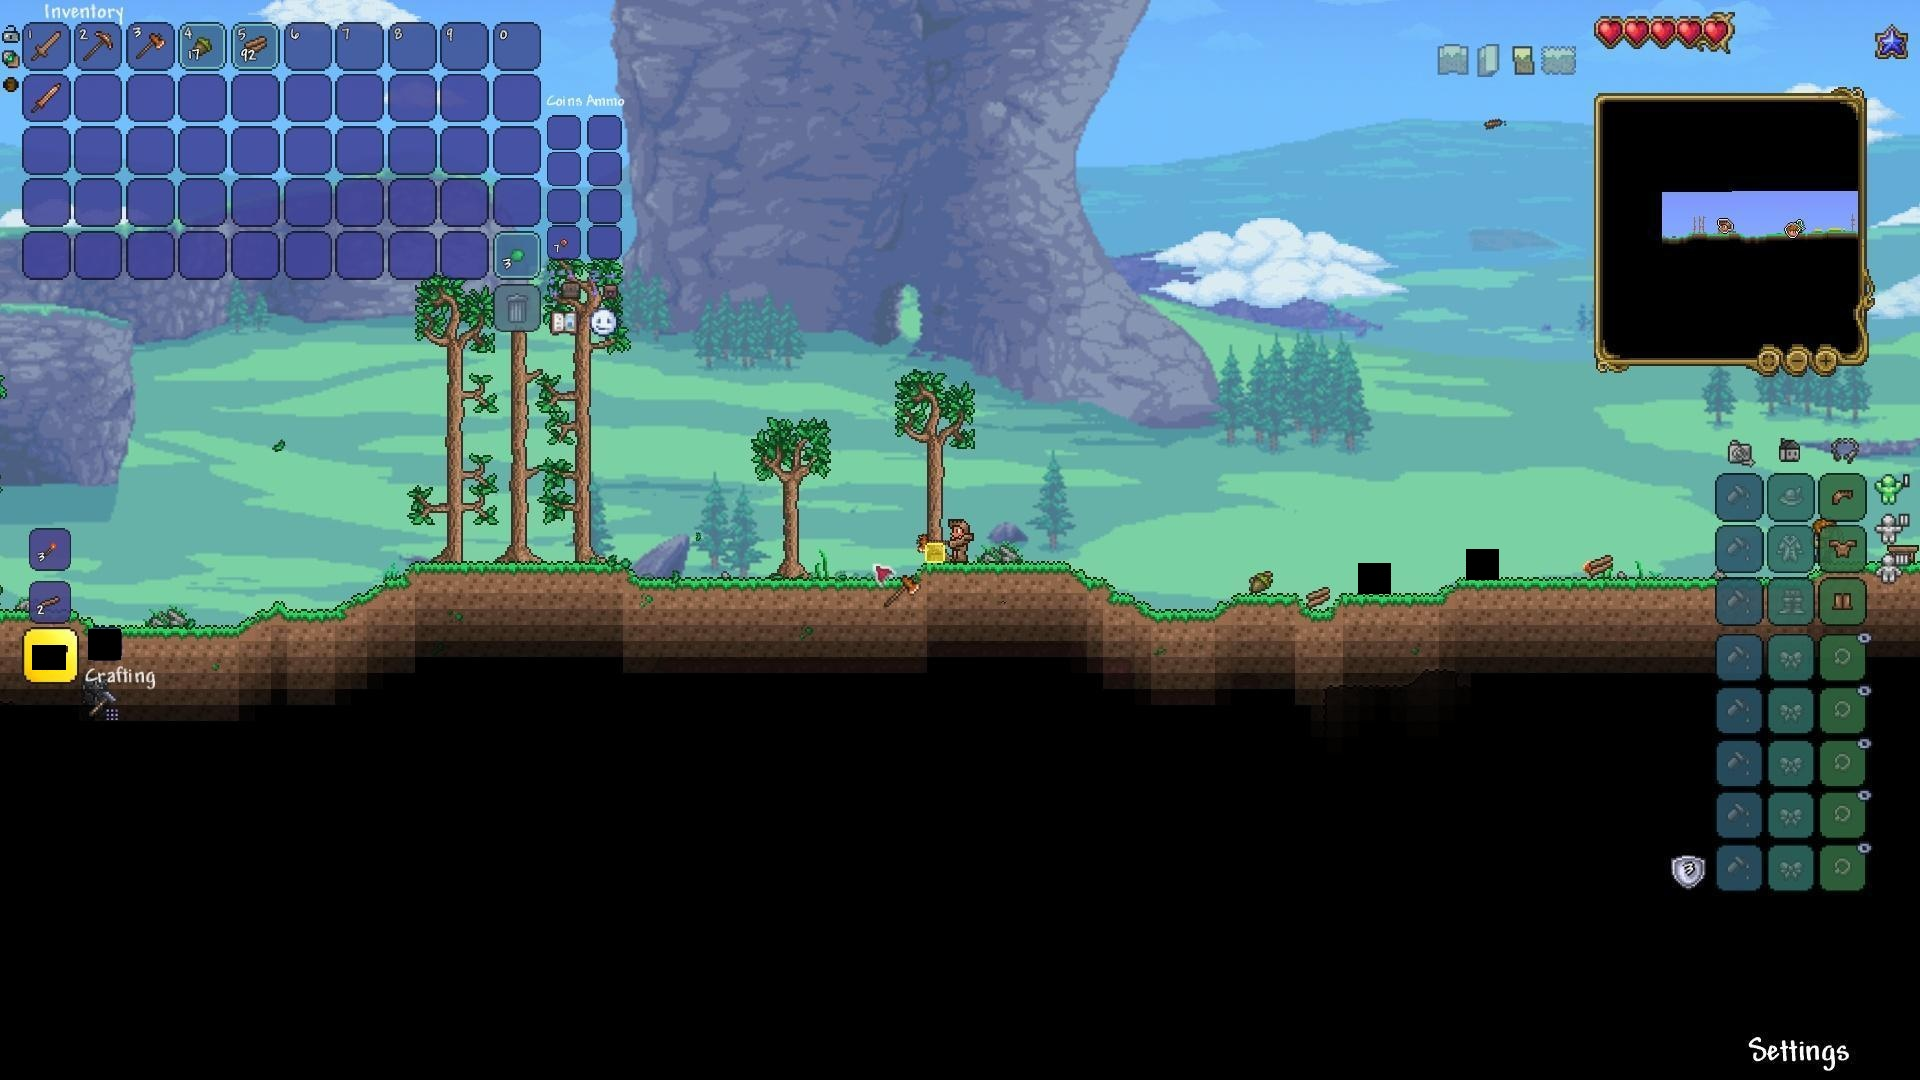breastplate: (1830, 535, 1859, 558)
helmet: (1829, 485, 1857, 509)
legs: (1832, 587, 1857, 615)
wood: (1585, 553, 1618, 583), (239, 29, 270, 59), (1305, 583, 1337, 612)
